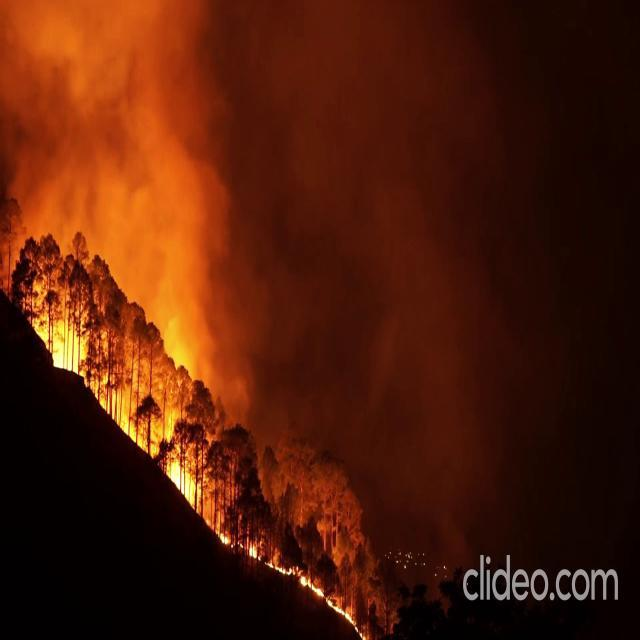Fire: (292, 567, 355, 626), (161, 441, 196, 518)
Smoke: (0, 4, 459, 527)
